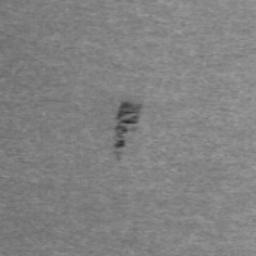Secondary rust skin: (113, 100, 144, 149)
